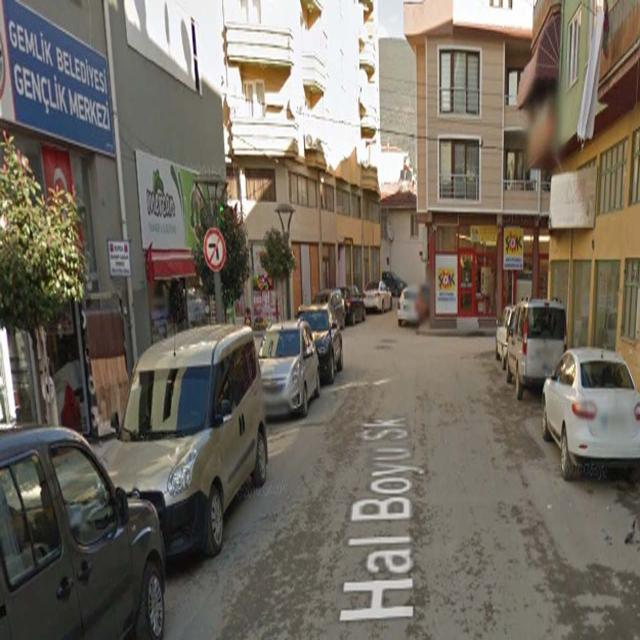soladonulmez: (203, 227, 227, 272)
